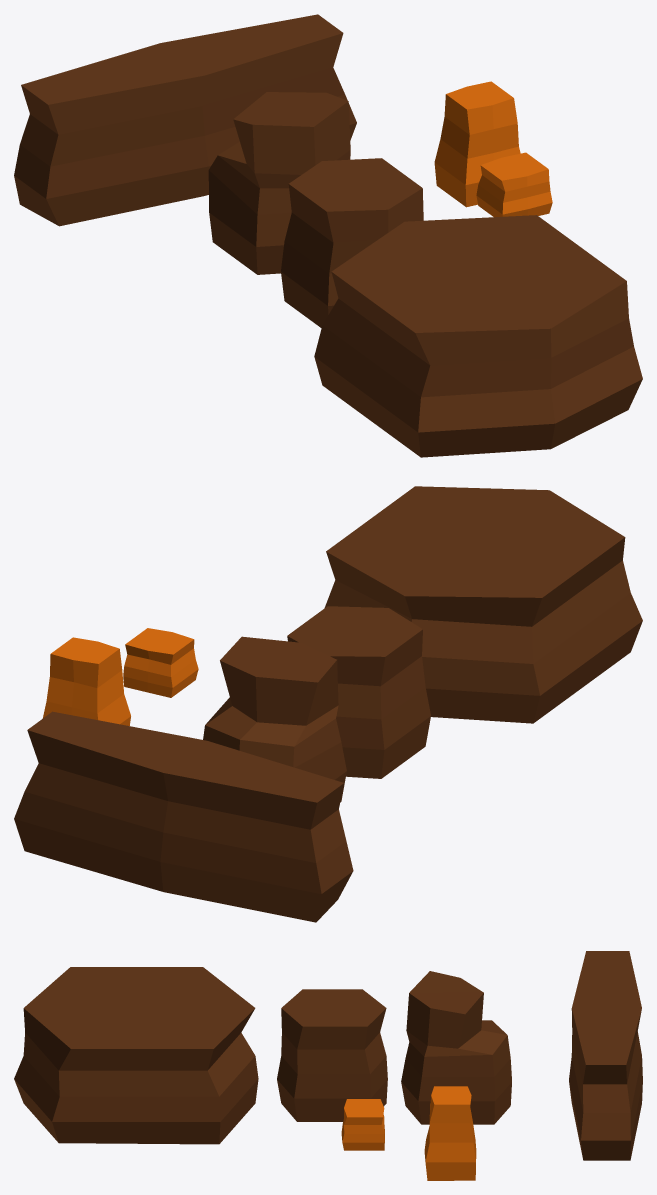
Rendered from Rocks.fbx.
3 views of the same model, one above another, from view 1: azimuth 30°, elevation 25°; view 2: azimuth 150°, elevation 25°; view 3: azimuth 270°, elevation 25° (orthographic). The views are drawn at different scales.
Visible parts, largest first — view 1: Cube.002, Cube.003, Cube.001, Cube, Cube.005, Cube.004; view 2: Cube.002, Cube.003, Cube, Cube.001, Cube.005, Cube.004; view 3: Cube.002, Cube.003, Cube, Cube.001, Cube.005, Cube.004.
Boxes of the visible parts, x1=… form: Cube.002: x1=314, y1=215, x2=642, y2=457; Cube.003: x1=14, y1=14, x2=356, y2=226; Cube.001: x1=208, y1=92, x2=350, y2=274; Cube: x1=281, y1=158, x2=423, y2=327; Cube.005: x1=434, y1=81, x2=520, y2=207; Cube.004: x1=476, y1=152, x2=552, y2=217; Cube.002: x1=324, y1=486, x2=642, y2=723; Cube.003: x1=14, y1=711, x2=353, y2=922; Cube: x1=287, y1=606, x2=430, y2=778; Cube.001: x1=203, y1=636, x2=346, y2=802; Cube.005: x1=42, y1=637, x2=130, y2=725; Cube.004: x1=123, y1=628, x2=198, y2=697; Cube.002: x1=14, y1=967, x2=258, y2=1144; Cube.003: x1=569, y1=951, x2=642, y2=1160; Cube: x1=277, y1=989, x2=387, y2=1121; Cube.001: x1=401, y1=971, x2=511, y2=1124; Cube.005: x1=424, y1=1086, x2=476, y2=1180; Cube.004: x1=341, y1=1099, x2=384, y2=1150.
Bounding box in the file's own units: 663 × 246 × 1195.
